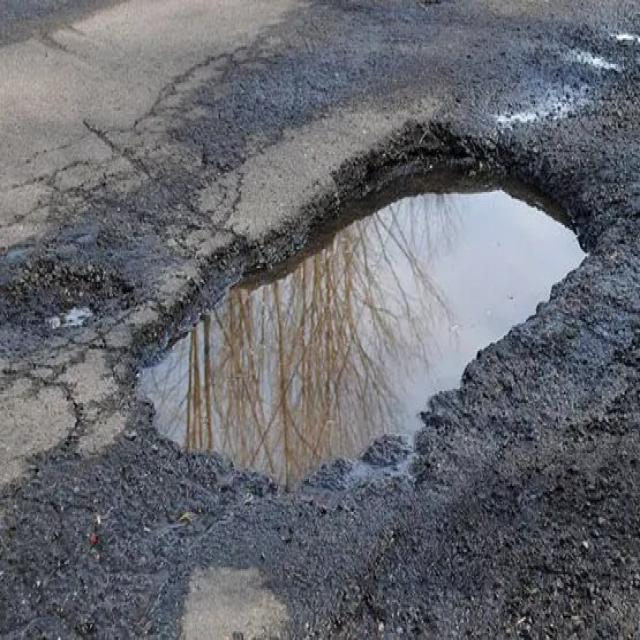Pothole: (132, 107, 584, 483), (12, 265, 118, 344)
